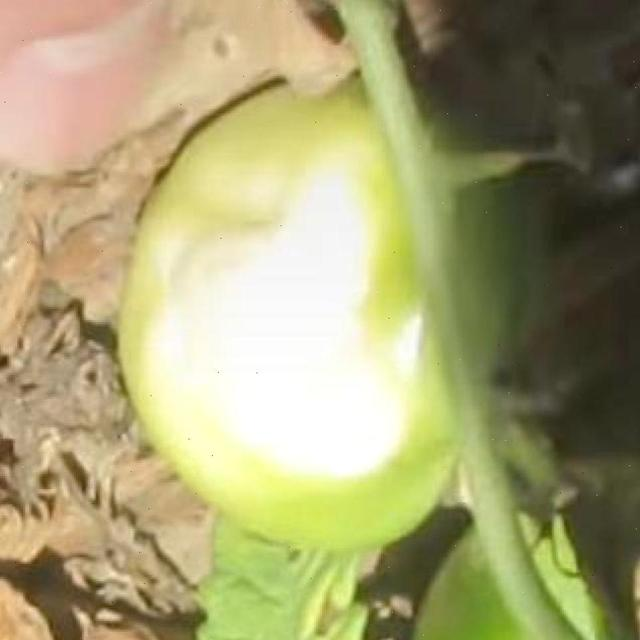Sunscald Fruit: (84, 85, 267, 331)
